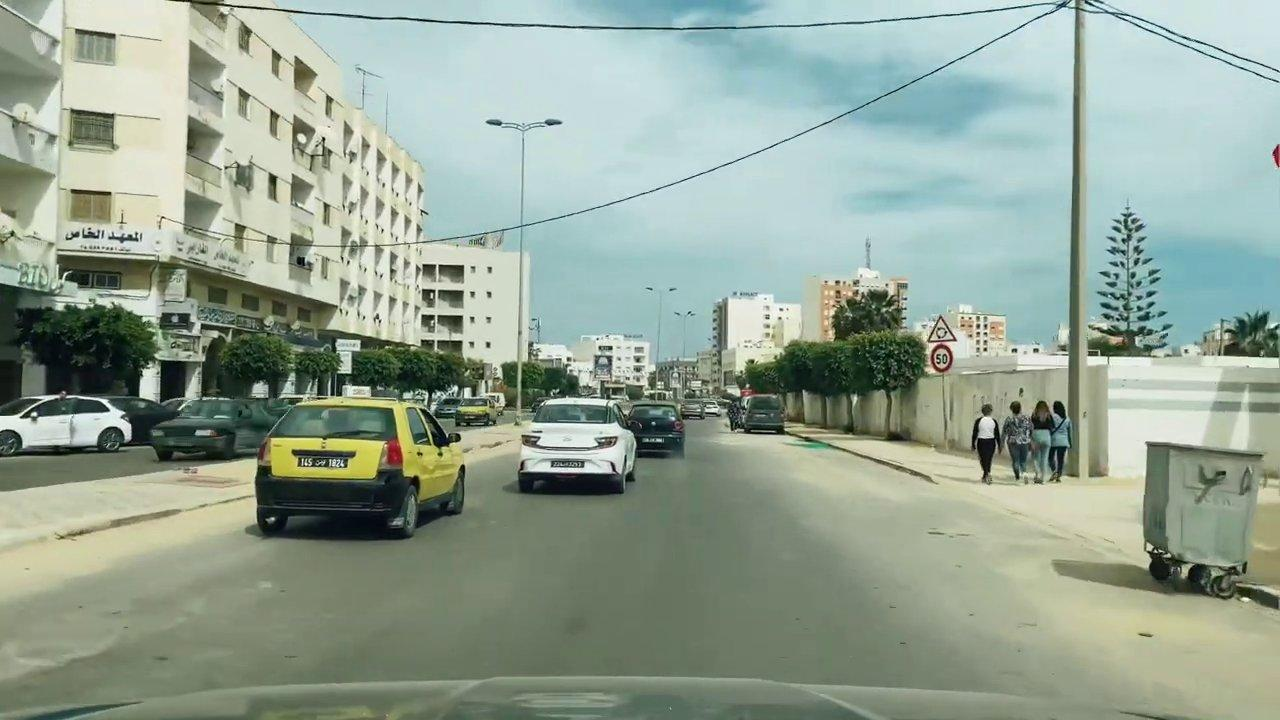roundabout: (924, 314, 959, 344)
speed limit 50: (929, 343, 957, 375)
